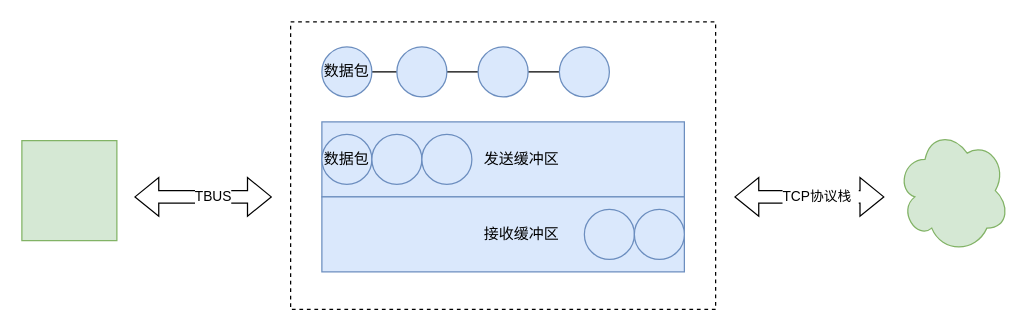
Some shapes in this 1031 by 331 pixel diagram are drawn without their labels. Here are the shapes that lost their labels. From the top down, the box of each, then its label:
(21, 139, 117, 241): 微服务
(896, 127, 1009, 253): 网络
